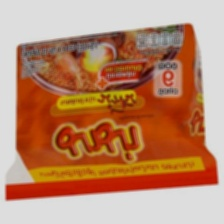snack: (0, 18, 224, 209)
